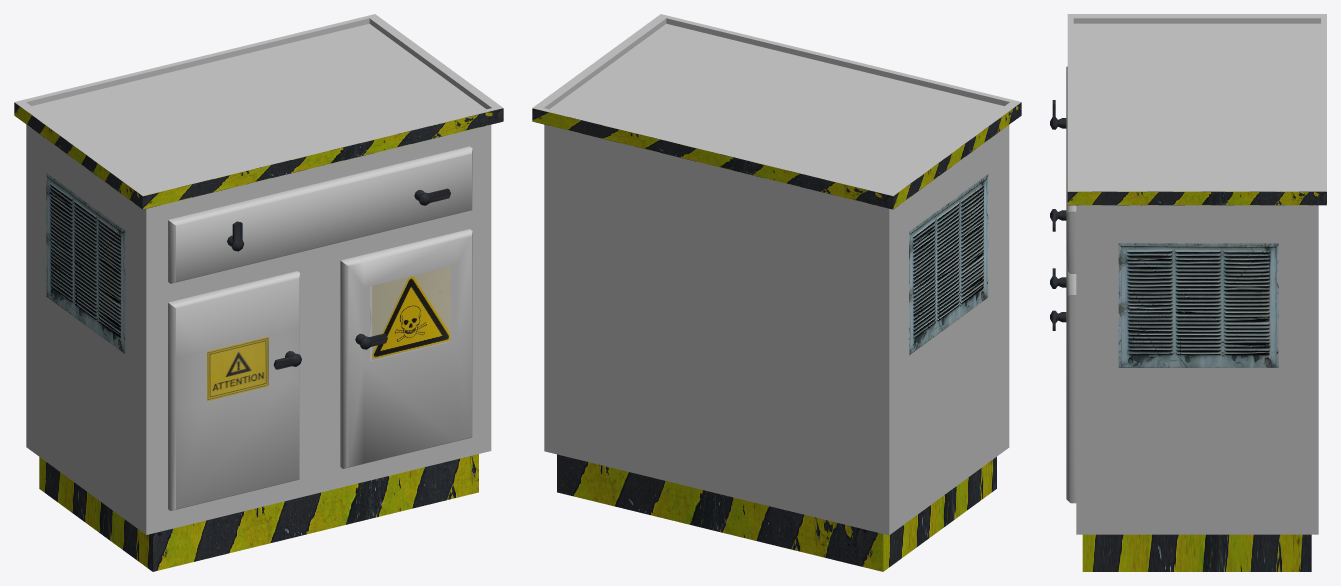
Rendered from ind4_electricbox_LOD0.fbx.
The picture shows the model from 3 angles, left to right: view 1: azimuth 30°, elevation 25°; view 2: azimuth 150°, elevation 25°; view 3: azimuth 270°, elevation 25°; orthographic projection.
Parts seen in each view (by area): view 1: Mesh Object; view 2: Mesh Object; view 3: Mesh Object.
Boxes of the visible parts, <box> form: Mesh Object: <box>14,14,503,571</box>; Mesh Object: <box>532,14,1021,571</box>; Mesh Object: <box>1050,14,1326,571</box>.
Bounding box in the file's own units: 1.44 × 1.47 × 0.9491.
